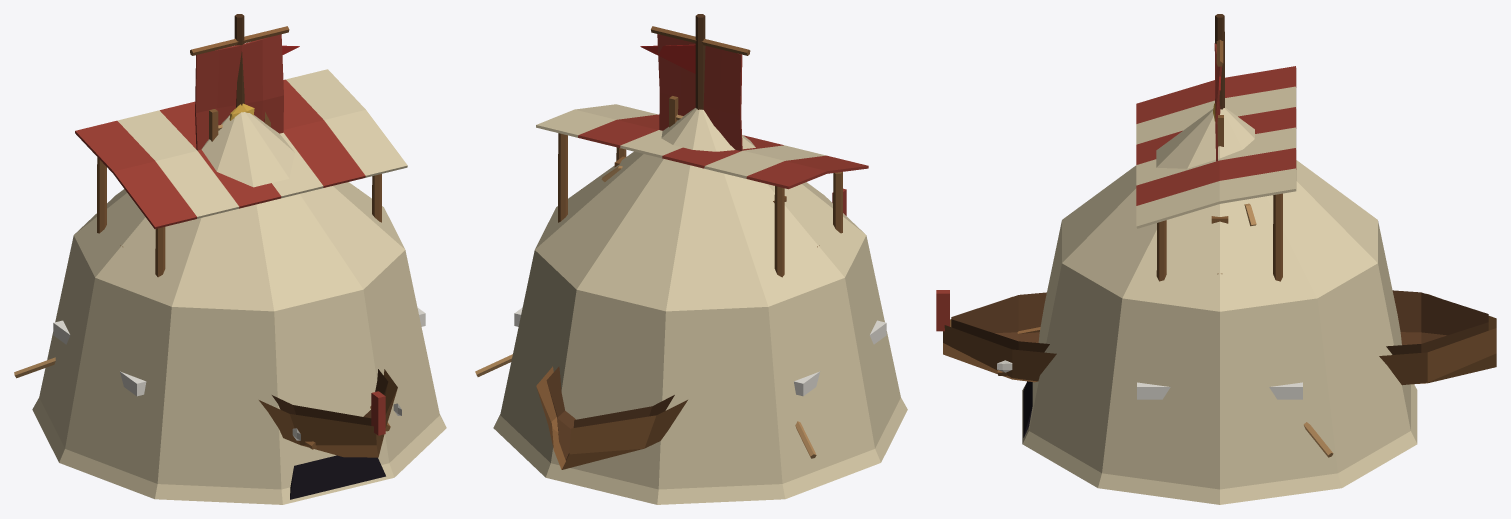
Rendered from Goods_Kit.glb.
3 renders of one model, left to right at view 1: azimuth 30°, elevation 25°; view 2: azimuth 150°, elevation 25°; view 3: azimuth 270°, elevation 25°, orthographic.
Visible parts, largest first — view 1: Tent, Stall, Banner, Boat_Small, Table_Marble; view 2: Tent, Stall, Boat_Small, Banner, Table_Marble; view 3: Tent, Stall, Boat_Small, Banner, Table_Marble.
Boxes of the visible parts, x1=… form: Tent: x1=32, y1=45, x2=446, y2=504; Stall: x1=75, y1=69, x2=407, y2=277; Banner: x1=190, y1=14, x2=289, y2=150; Boat_Small: x1=14, y1=357, x2=401, y2=457; Table_Marble: x1=53, y1=307, x2=425, y2=396; Tent: x1=493, y1=44, x2=907, y2=504; Stall: x1=536, y1=104, x2=868, y2=277; Boat_Small: x1=475, y1=188, x2=846, y2=469; Banner: x1=651, y1=14, x2=750, y2=150; Table_Marble: x1=514, y1=307, x2=886, y2=396; Tent: x1=1022, y1=76, x2=1417, y2=504; Stall: x1=1136, y1=66, x2=1296, y2=281; Boat_Small: x1=936, y1=290, x2=1496, y2=457; Banner: x1=1213, y1=14, x2=1224, y2=161; Table_Marble: x1=1137, y1=382, x2=1302, y2=399.
Bounding box in the file's own units: 3 × 3.3 × 4.05.
